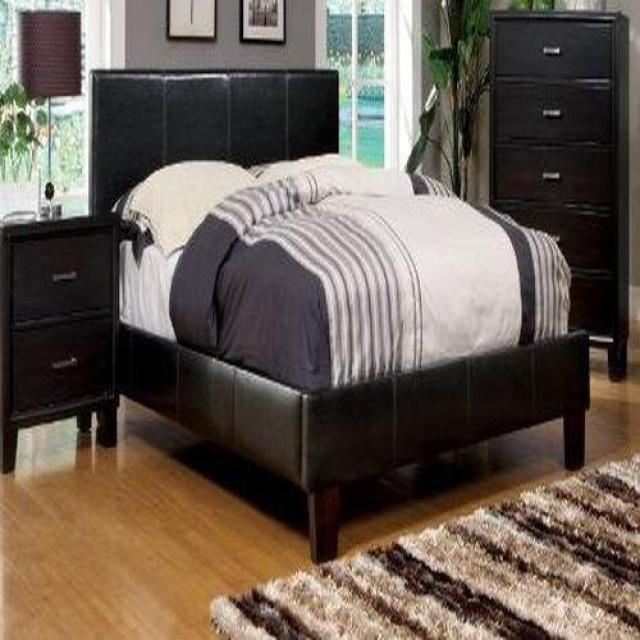bed: (88, 70, 591, 566)
